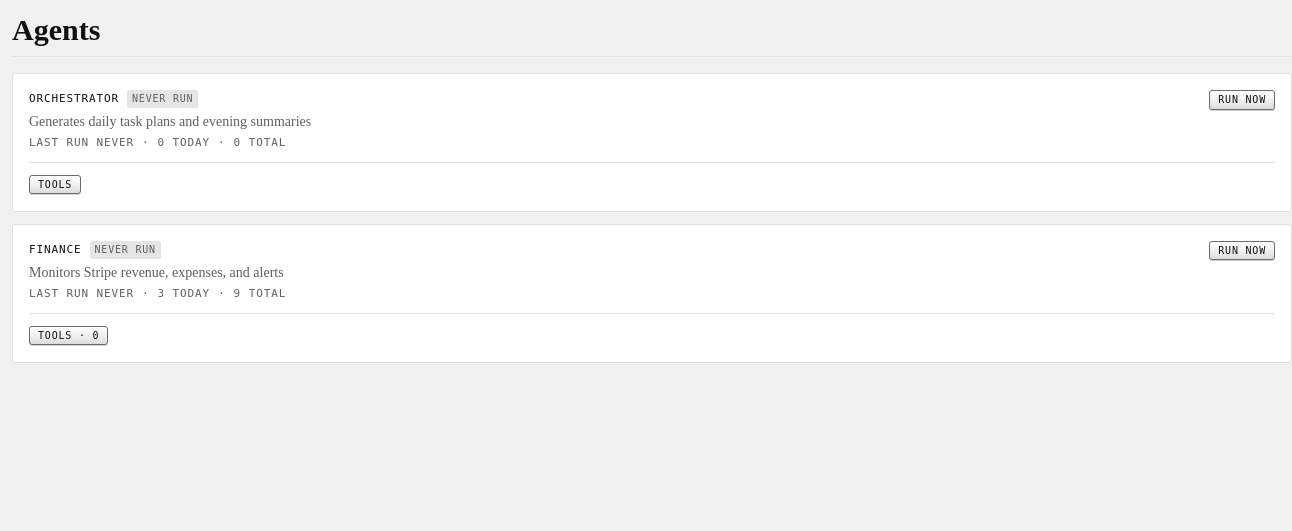
Scenario: Agents page toolbox (V20 L4) › a capabilities row with no tools[] is NAMED as unreadable — it is not the same state as an agent granted no tools
Click the button "Tools": (55, 185) [29,175,81,194]
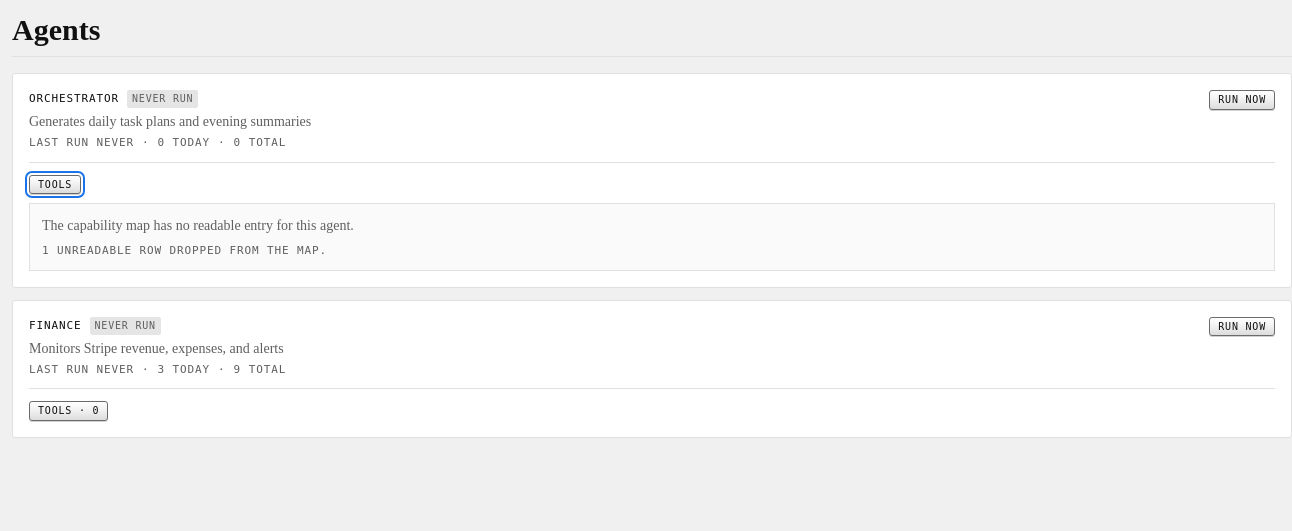
Expected: the text "No tools are granted" is not shown
Expected: the text "The capability map has no readable entry for this agent." is shown, [42,218,354,233]
Expected: the text "1 unreadable row dropped from the map." is shown, [42,244,327,257]
Click the button "Tools · 0": (69, 411) [29,401,108,421]
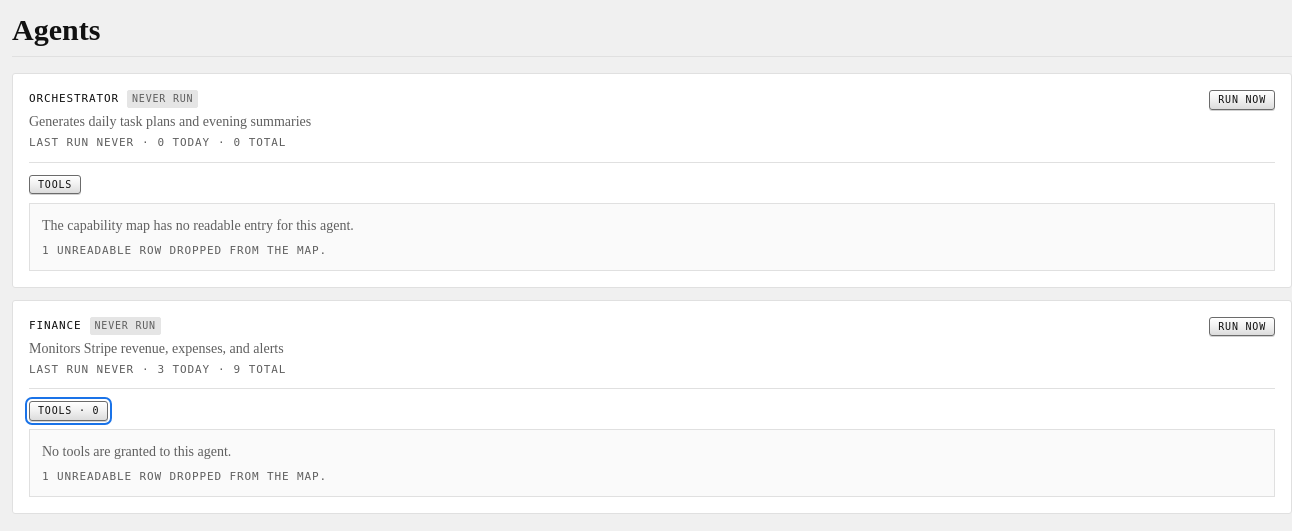
Expected: the text "No tools are granted to this agent." is shown, [42,444,231,459]
